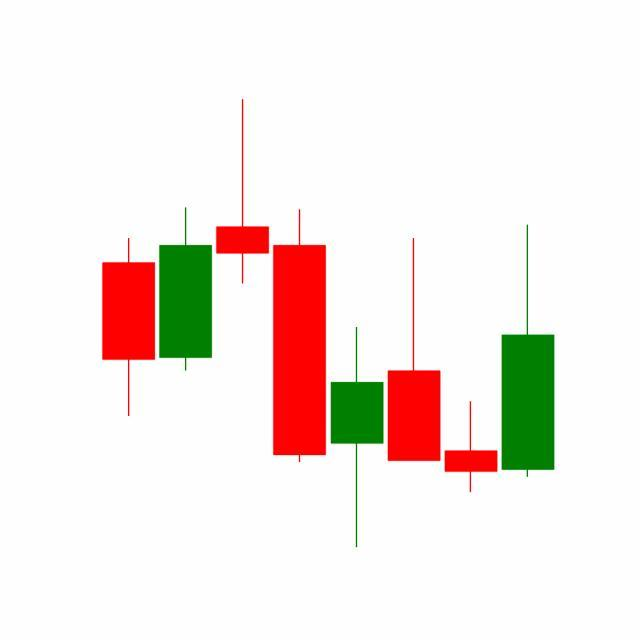Three Outside Up-Down: (328, 234, 500, 549)
